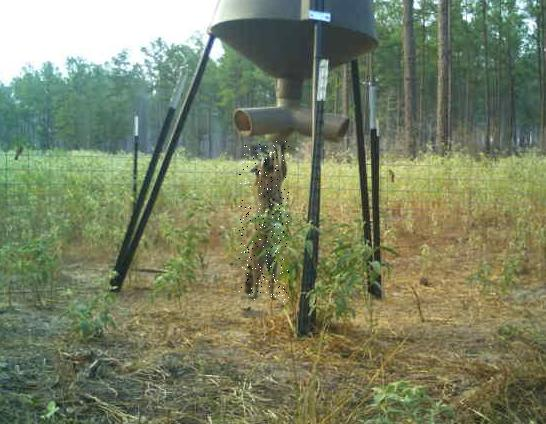Raccoon: (238, 142, 288, 303)
